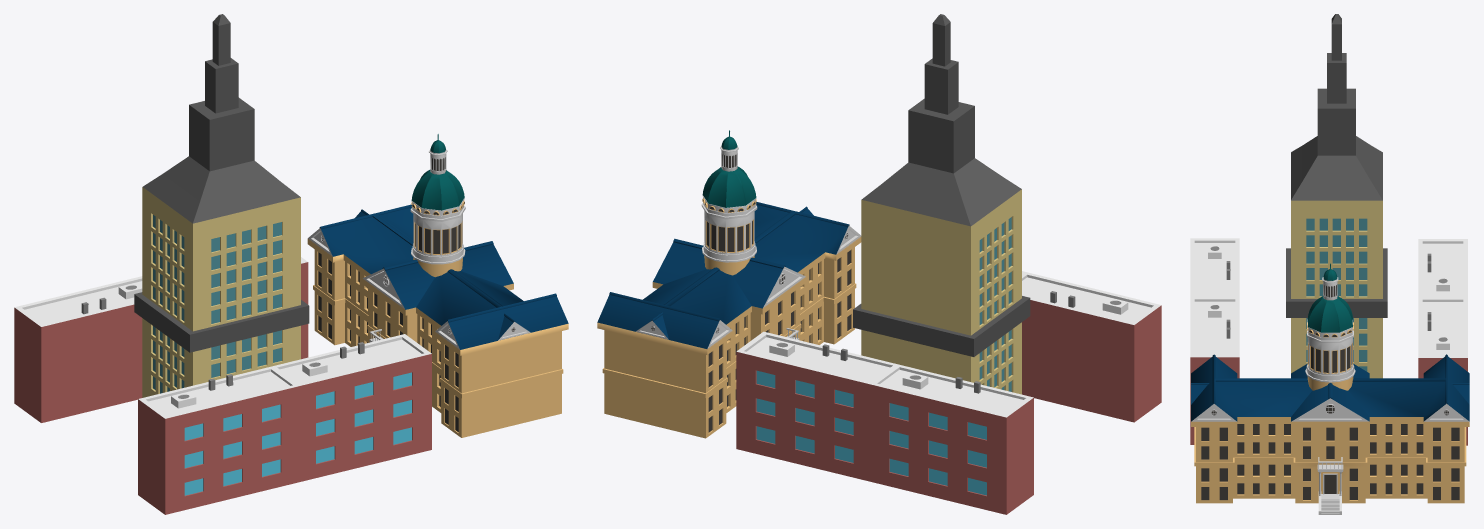
The model's file is CityHall.fbx.
The picture shows the model from 3 angles, left to right: view 1: azimuth 30°, elevation 25°; view 2: azimuth 150°, elevation 25°; view 3: azimuth 270°, elevation 25°; orthographic projection. The views are drawn at different scales.
Parts seen in each view (by area): view 1: Object_35.001, Plane.004, City_001_Building_010.002, City_001_Building_010.001; view 2: Plane.004, Object_35.001, City_001_Building_010.001, City_001_Building_010.002; view 3: Plane.004, Object_35.001, City_001_Building_010.002, City_001_Building_010.001.
Boxes of the visible parts, x1,y1,x2,y2 form: Object_35.001: (134,14,309,397); Plane.004: (307,134,568,437); City_001_Building_010.002: (138,334,431,514); City_001_Building_010.001: (14,257,308,422); Plane.004: (597,130,861,438); Object_35.001: (853,14,1030,394); City_001_Building_010.001: (736,331,1033,514); City_001_Building_010.002: (1022,271,1161,422); Plane.004: (1191,263,1469,514); Object_35.001: (1286,14,1387,378); City_001_Building_010.002: (1190,238,1239,444); City_001_Building_010.001: (1418,239,1467,445).
Bounding box in the file's own units: 2644 × 2432 × 1644.
Materials: 9 (5 with a texture image).
